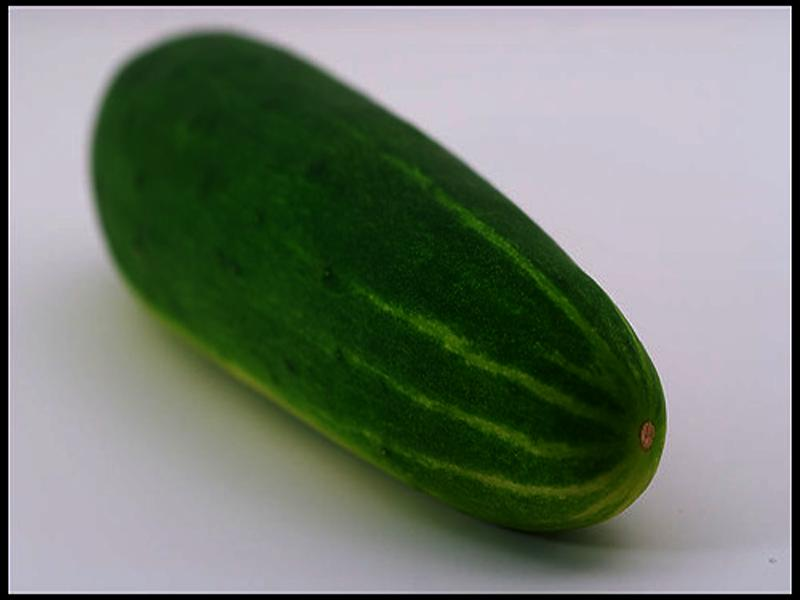Cucumber: (92, 32, 665, 532)
